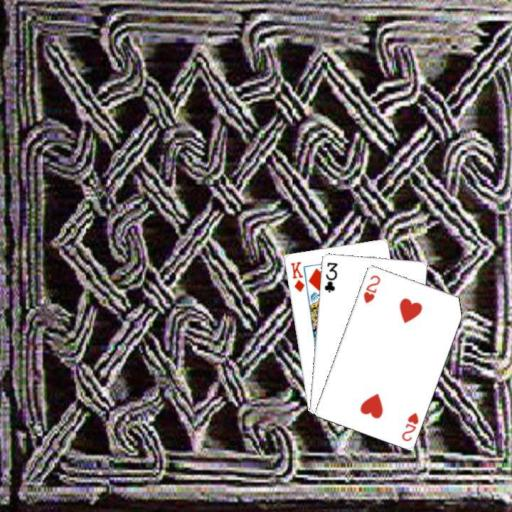2H: (398, 409, 420, 442), (360, 272, 382, 304)
3C: (321, 259, 339, 294)
KD: (287, 258, 306, 294)
